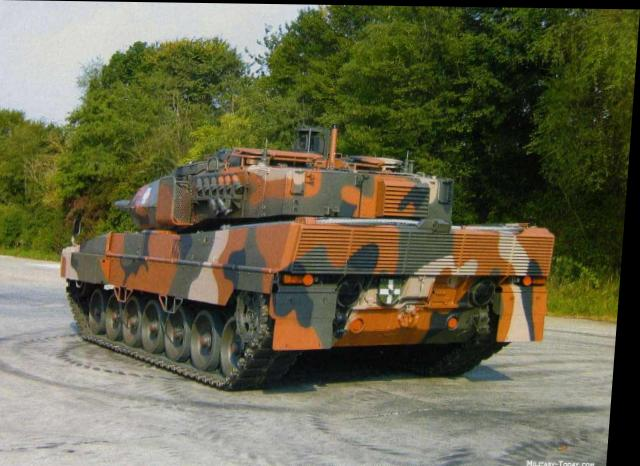tank: (66, 149, 573, 393)
